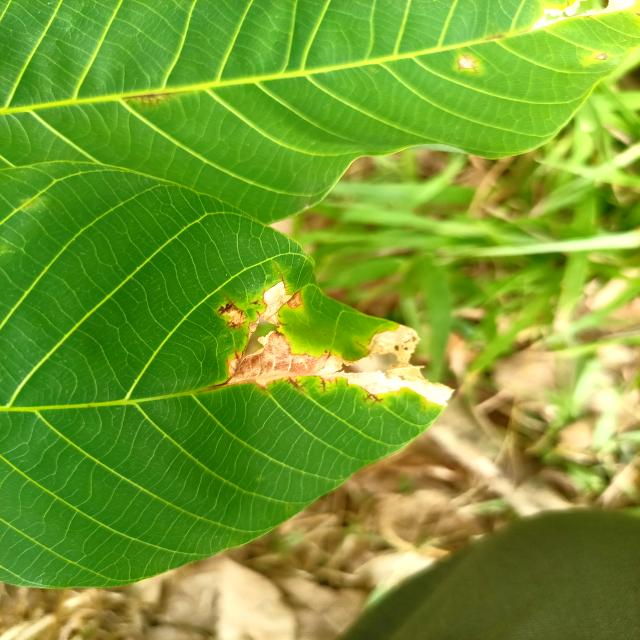Corynespora: (274, 264, 293, 292), (218, 295, 240, 316), (286, 378, 307, 394), (363, 393, 382, 406), (318, 380, 330, 394)
Leaf-Blight: (226, 325, 455, 406), (530, 0, 638, 30), (259, 282, 304, 326)
